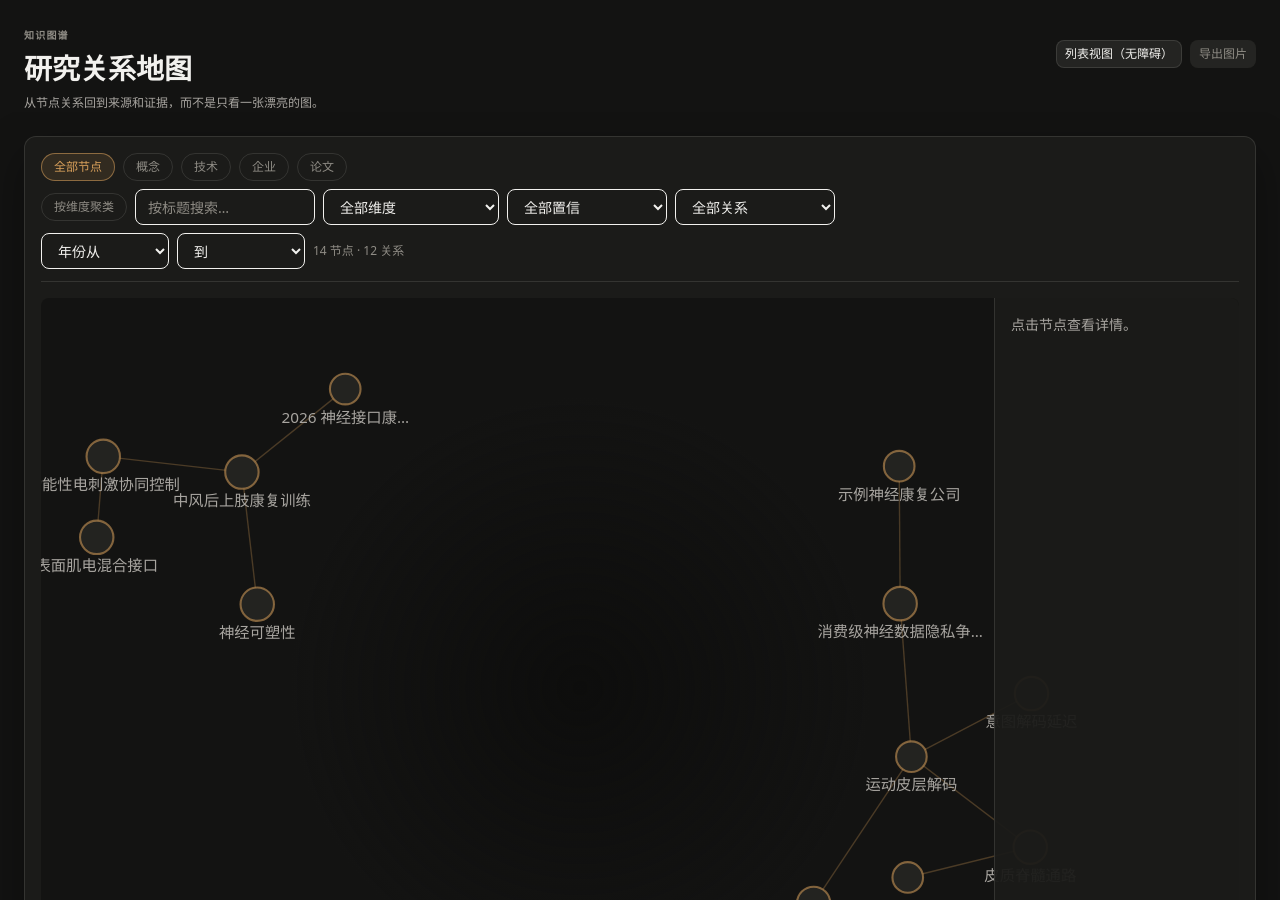
Scenario: GraphPage › search narrows nodes and updates the count
Type "运动皮层" into the search field named "搜索节点" at (225, 207), box [135,189,315,225]
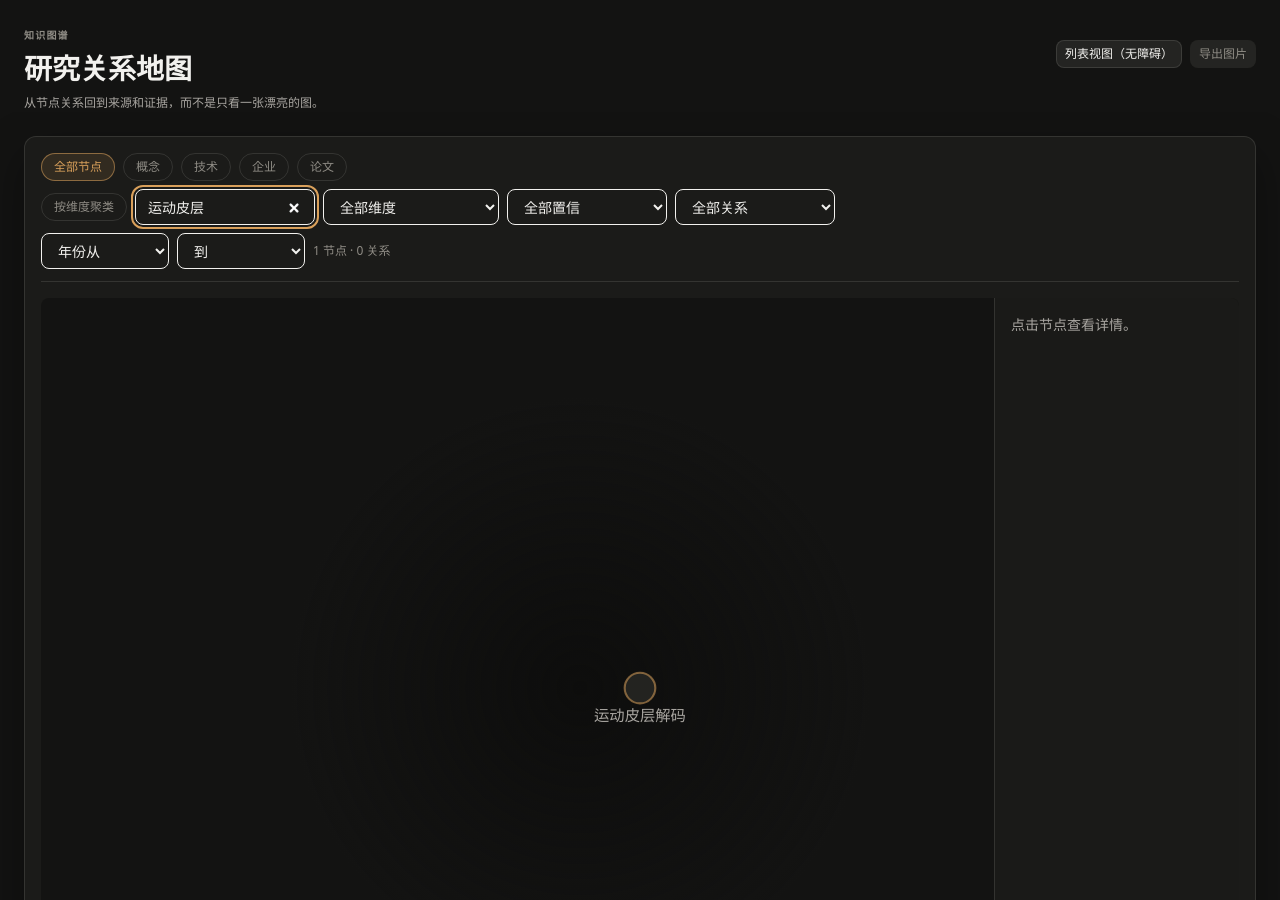
Result: the text "1 节点 · 0 关系" is shown at [313,242,390,260]
